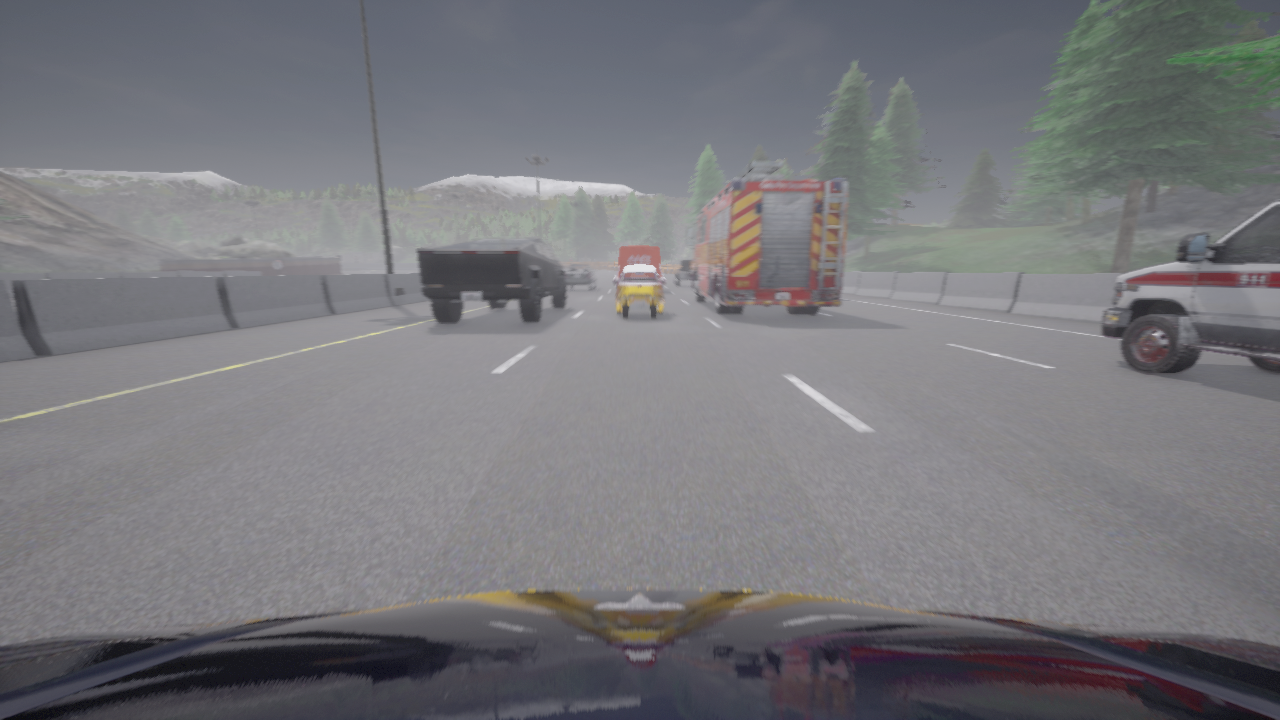cyclist: (0, 588, 1279, 719), (1102, 199, 1279, 373), (686, 160, 847, 314), (417, 238, 567, 322), (614, 265, 665, 318), (617, 246, 662, 280), (566, 264, 596, 290), (674, 259, 693, 286)
